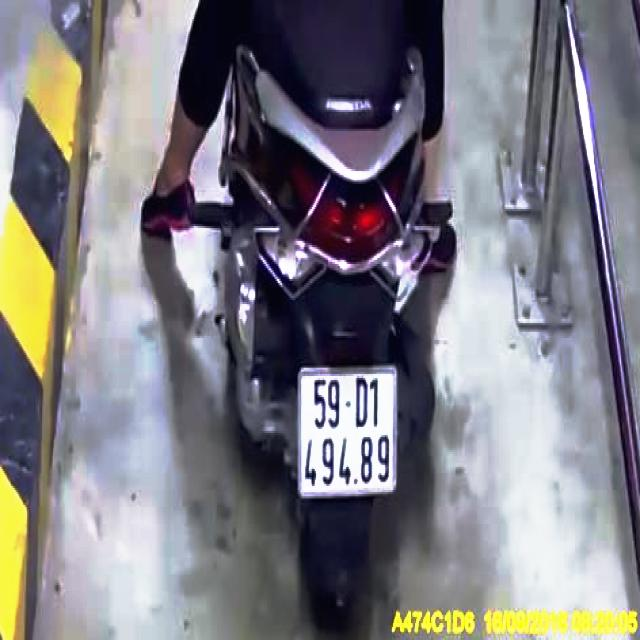license_plate: (300, 366, 396, 497)
